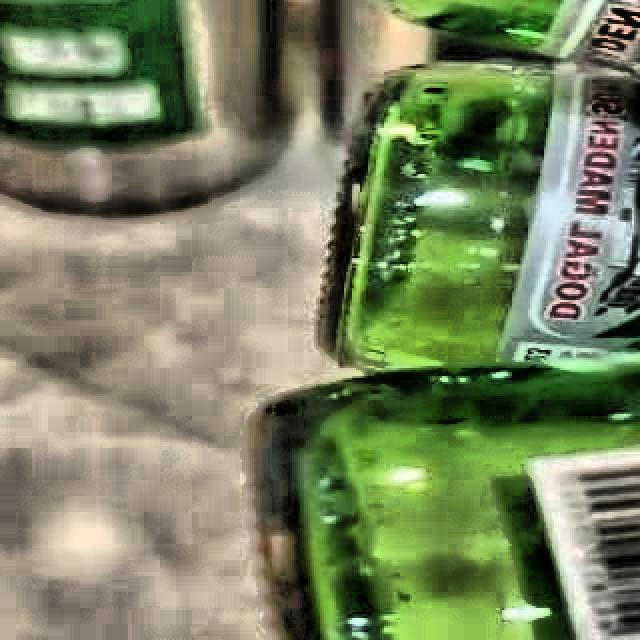glass: (251, 0, 640, 640)
